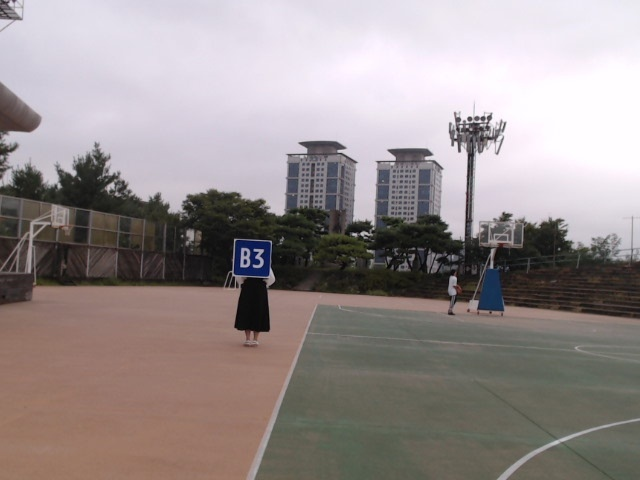delivery_b3: (233, 239, 271, 277)
